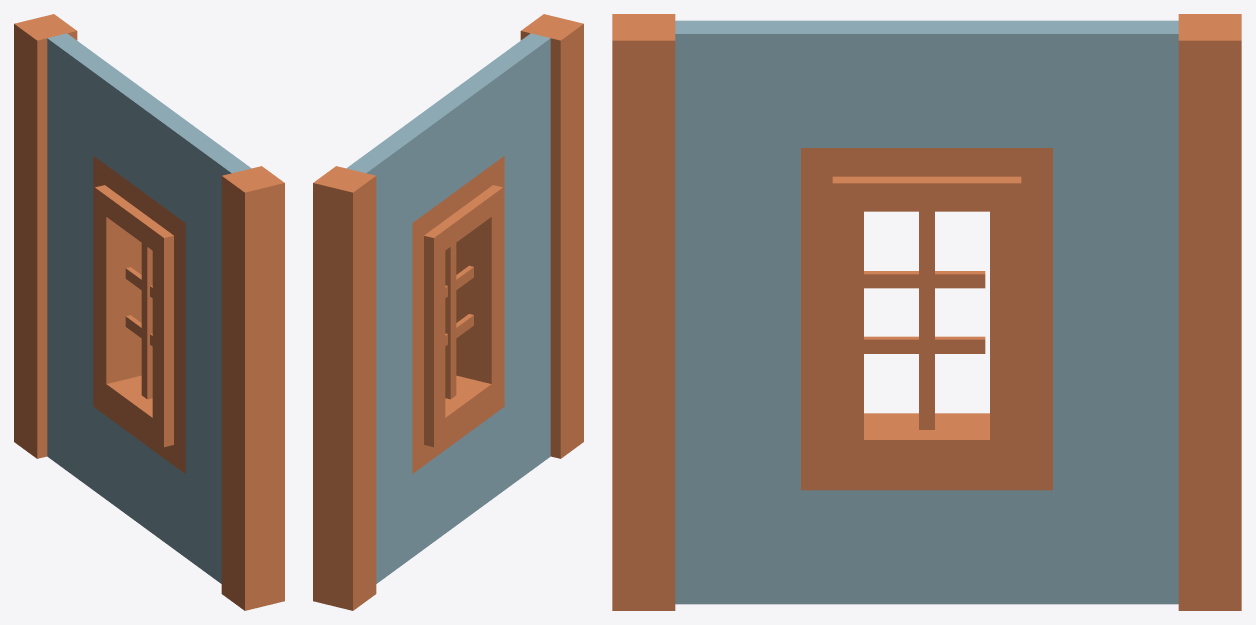
File: wallWindowGlass.dae
3 renders of one model, left to right at view 1: azimuth 30°, elevation 25°; view 2: azimuth 150°, elevation 25°; view 3: azimuth 270°, elevation 25°, orthographic. The views are drawn at different scales.
Visible parts, largest first — view 1: wallWindowGlass, detail; view 2: wallWindowGlass, detail; view 3: wallWindowGlass, detail.
Part boxes in pixels (x1,y1,x2,y2): wallWindowGlass: [14, 14, 284, 610]; detail: [125, 243, 152, 399]; wallWindowGlass: [313, 14, 583, 610]; detail: [445, 243, 473, 399]; wallWindowGlass: [612, 14, 1241, 610]; detail: [864, 211, 985, 429].
Bounding box in the file's own units: 0.1 × 1 × 1.
